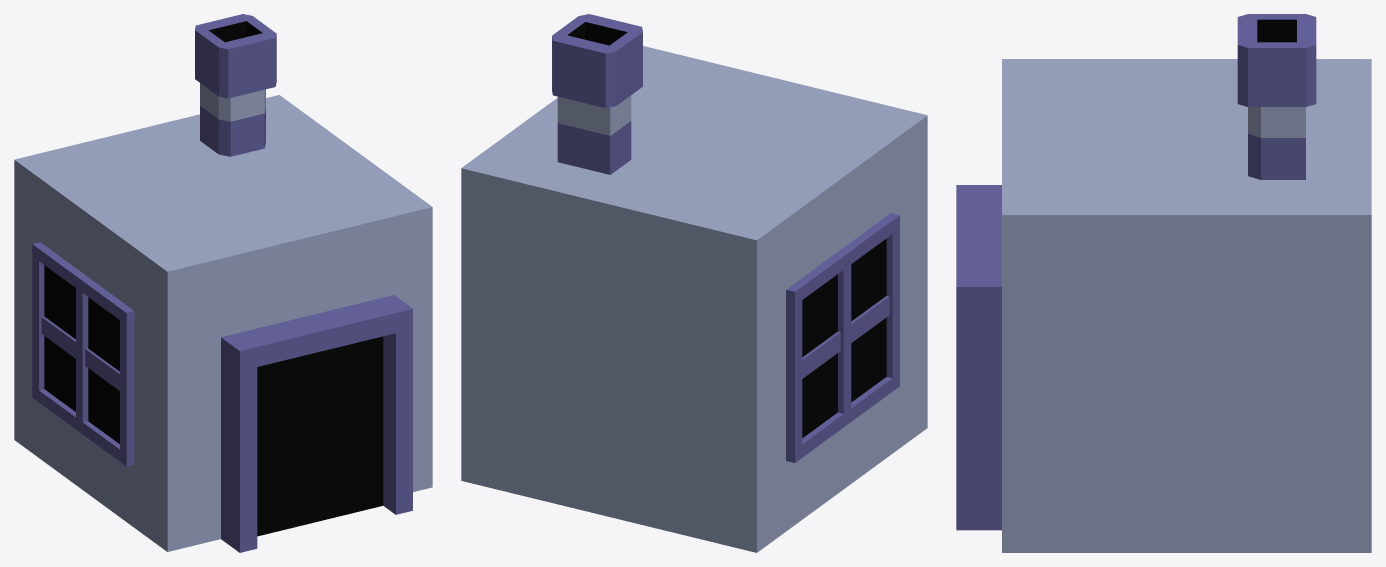
The model's file is main_factory.fbx.
The picture shows the model from 3 angles, left to right: view 1: azimuth 30°, elevation 25°; view 2: azimuth 150°, elevation 25°; view 3: azimuth 270°, elevation 25°; orthographic projection. The views are drawn at different scales.
Parts seen in each view (by area): view 1: mergedBlocks; view 2: mergedBlocks; view 3: mergedBlocks.
Part boxes in pixels (x1=…): mergedBlocks: x1=14, y1=14, x2=432, y2=552; mergedBlocks: x1=461, y1=14, x2=927, y2=552; mergedBlocks: x1=956, y1=14, x2=1371, y2=552.
Size of the model in its own units: 10.2 by 14 by 11.13.
